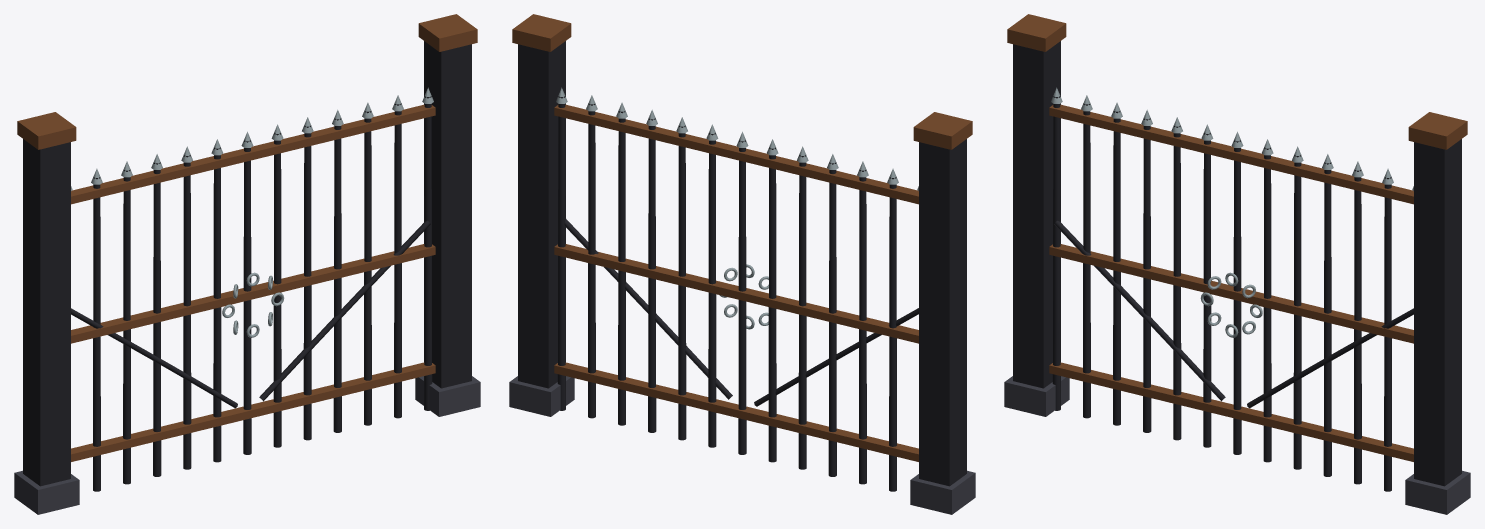
Rendered from mia-gate.glb.
3 renders of one model, left to right at view 1: azimuth 30°, elevation 25°; view 2: azimuth 150°, elevation 25°; view 3: azimuth 330°, elevation 25°, orthographic.
Parts seen in each view (by area): view 1: Body_iron, Body_rust, Body_stone, Body_steel; view 2: Body_iron, Body_rust, Body_stone, Body_steel; view 3: Body_iron, Body_rust, Body_stone, Body_steel.
Part boxes in pixels (x1,y1,x2,y2): Body_iron: (23, 41, 471, 491); Body_rust: (17, 14, 477, 461); Body_stone: (14, 376, 480, 514); Body_steel: (71, 87, 433, 337); Body_iron: (518, 41, 966, 491); Body_rust: (512, 14, 972, 461); Body_stone: (509, 376, 975, 514); Body_steel: (556, 87, 918, 329); Body_iron: (1013, 41, 1461, 491); Body_rust: (1007, 14, 1467, 461); Body_stone: (1004, 376, 1470, 514); Body_steel: (1051, 87, 1413, 337).
Size of the model in its own units: 3.5 by 2.86 by 0.324.
